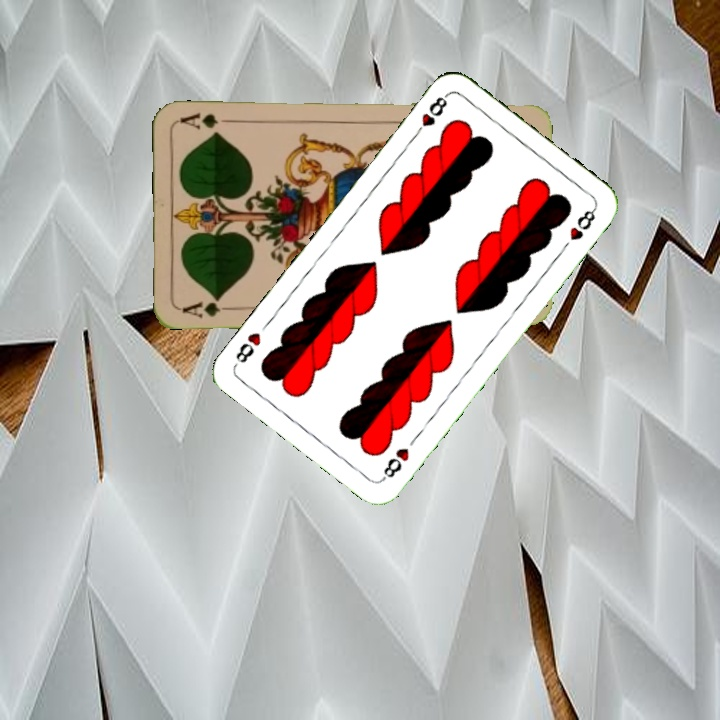GA: (178, 293, 237, 320)
H8: (410, 89, 451, 140), (378, 443, 412, 483)
